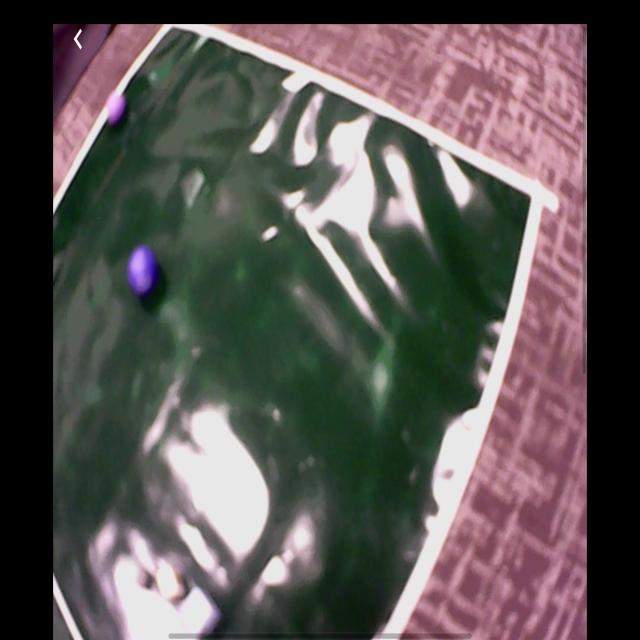ball: (128, 245, 158, 297), (107, 90, 126, 124)
